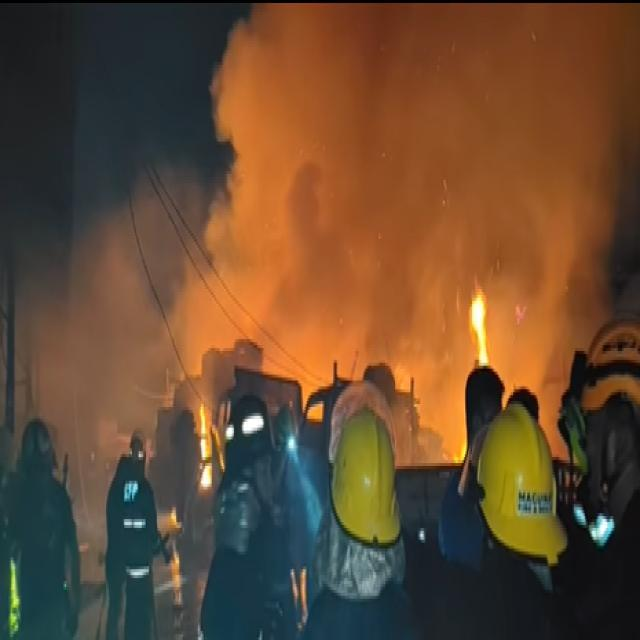Fire: (464, 286, 496, 382), (192, 400, 210, 492)
Smoke: (171, 0, 634, 451)
